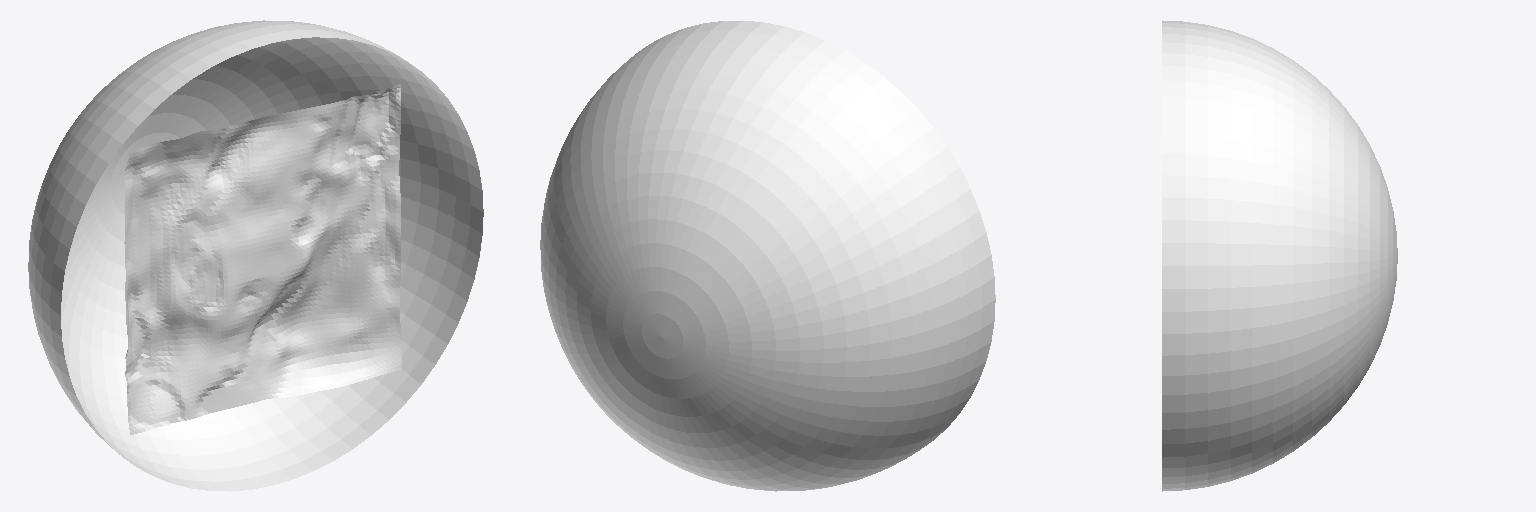
The robot description file, URDF, robot "plane":
<?xml version="0.0" ?>
<robot name="plane">
  <link name="planeLink">
  <contact>
      <lateral_friction value="1"/>
  </contact>
    <inertial>
      <origin rpy="0 0 0" xyz="0 0 0"/>
       <mass value="1.0"/>
       <inertia ixx="1.0" ixy="0" ixz="0" iyy="1.0" iyz="0" izz="1.0"/>
    </inertial>
    <visual>
      <origin rpy="0 0 0" xyz="0 0 0"/>
      <geometry>
				<mesh filename="SnowTerrain.obj" scale="1 1 1"/>
      </geometry>
       <material name="white">
        <color rgba="1 1 1 1"/>
      </material>
    </visual>
    <collision>
      <origin rpy="0 0 0" xyz="0 0 -5"/>
      <geometry>
	 	<box size="200 200 10"/>
      </geometry>
    </collision>
  </link>
</robot>

--- Facts derived from the render (not from the file) ---
Views: 3 orthographic renders of the robot side by side, from view 1: azimuth 30°, elevation 25°; view 2: azimuth 150°, elevation 25°; view 3: azimuth 270°, elevation 25°.
Robot: plane — 1 links, 0 joints (none); root link planeLink; default pose: every joint at zero.
Visible links, largest first — view 1: planeLink; view 2: planeLink; view 3: planeLink.
Boxes of the visible links, x1=… form: planeLink: x1=28, y1=20, x2=483, y2=491; planeLink: x1=540, y1=20, x2=995, y2=491; planeLink: x1=1162, y1=20, x2=1397, y2=491.
Bounding box of the posed robot: 97.36 × 48.68 × 97.36 m (x, y, z).
Meshes: 1 distinct files referenced, 1 mesh visuals loaded (1 OBJ).